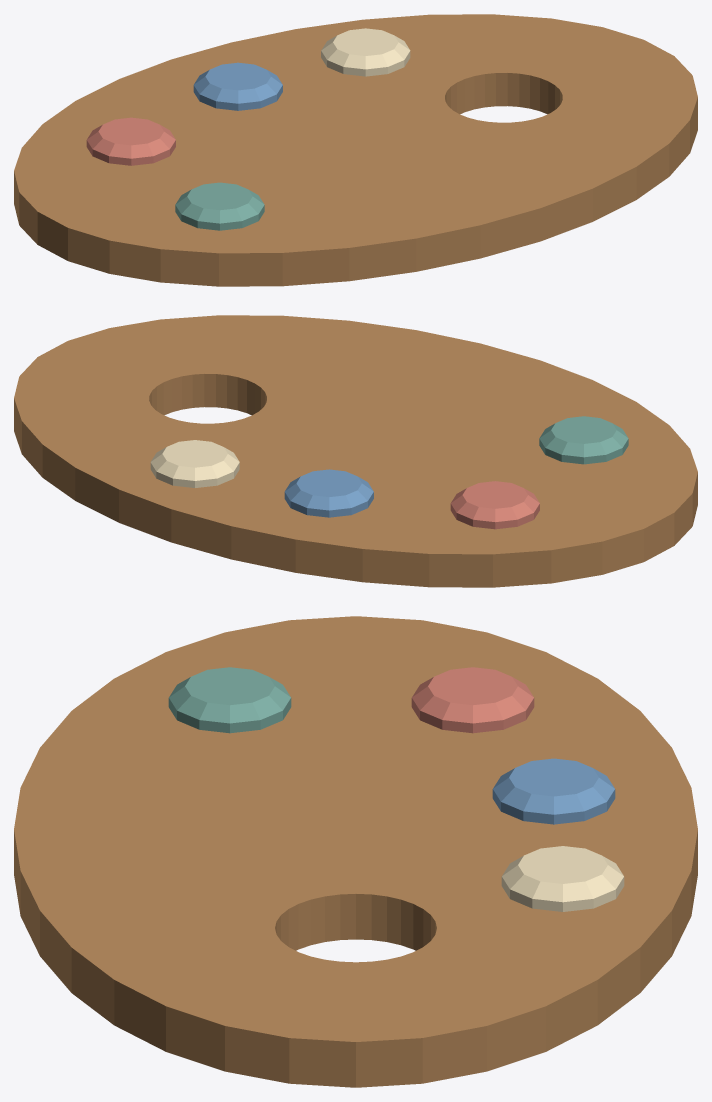
3 views of the same model, one above another, from view 1: azimuth 30°, elevation 25°; view 2: azimuth 150°, elevation 25°; view 3: azimuth 270°, elevation 25° (orthographic). The views are drawn at different scales.
Parts seen in each view (by area): view 1: painting-palette-01; view 2: painting-palette-01; view 3: painting-palette-01.
Boxes of the visible parts, bbox=[...] form: painting-palette-01: bbox=[14, 14, 697, 286]; painting-palette-01: bbox=[14, 315, 697, 587]; painting-palette-01: bbox=[14, 616, 697, 1087].
Size of the model in its own units: 0.56 by 0.041 by 0.38.
